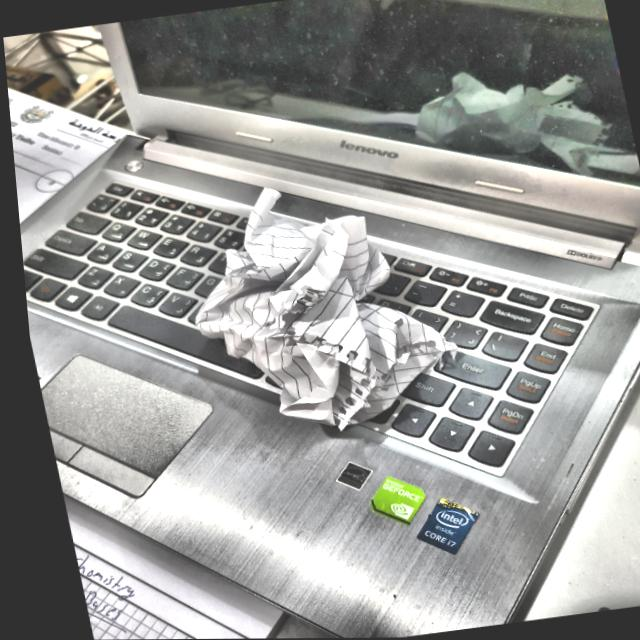Paper: (190, 176, 442, 439)
